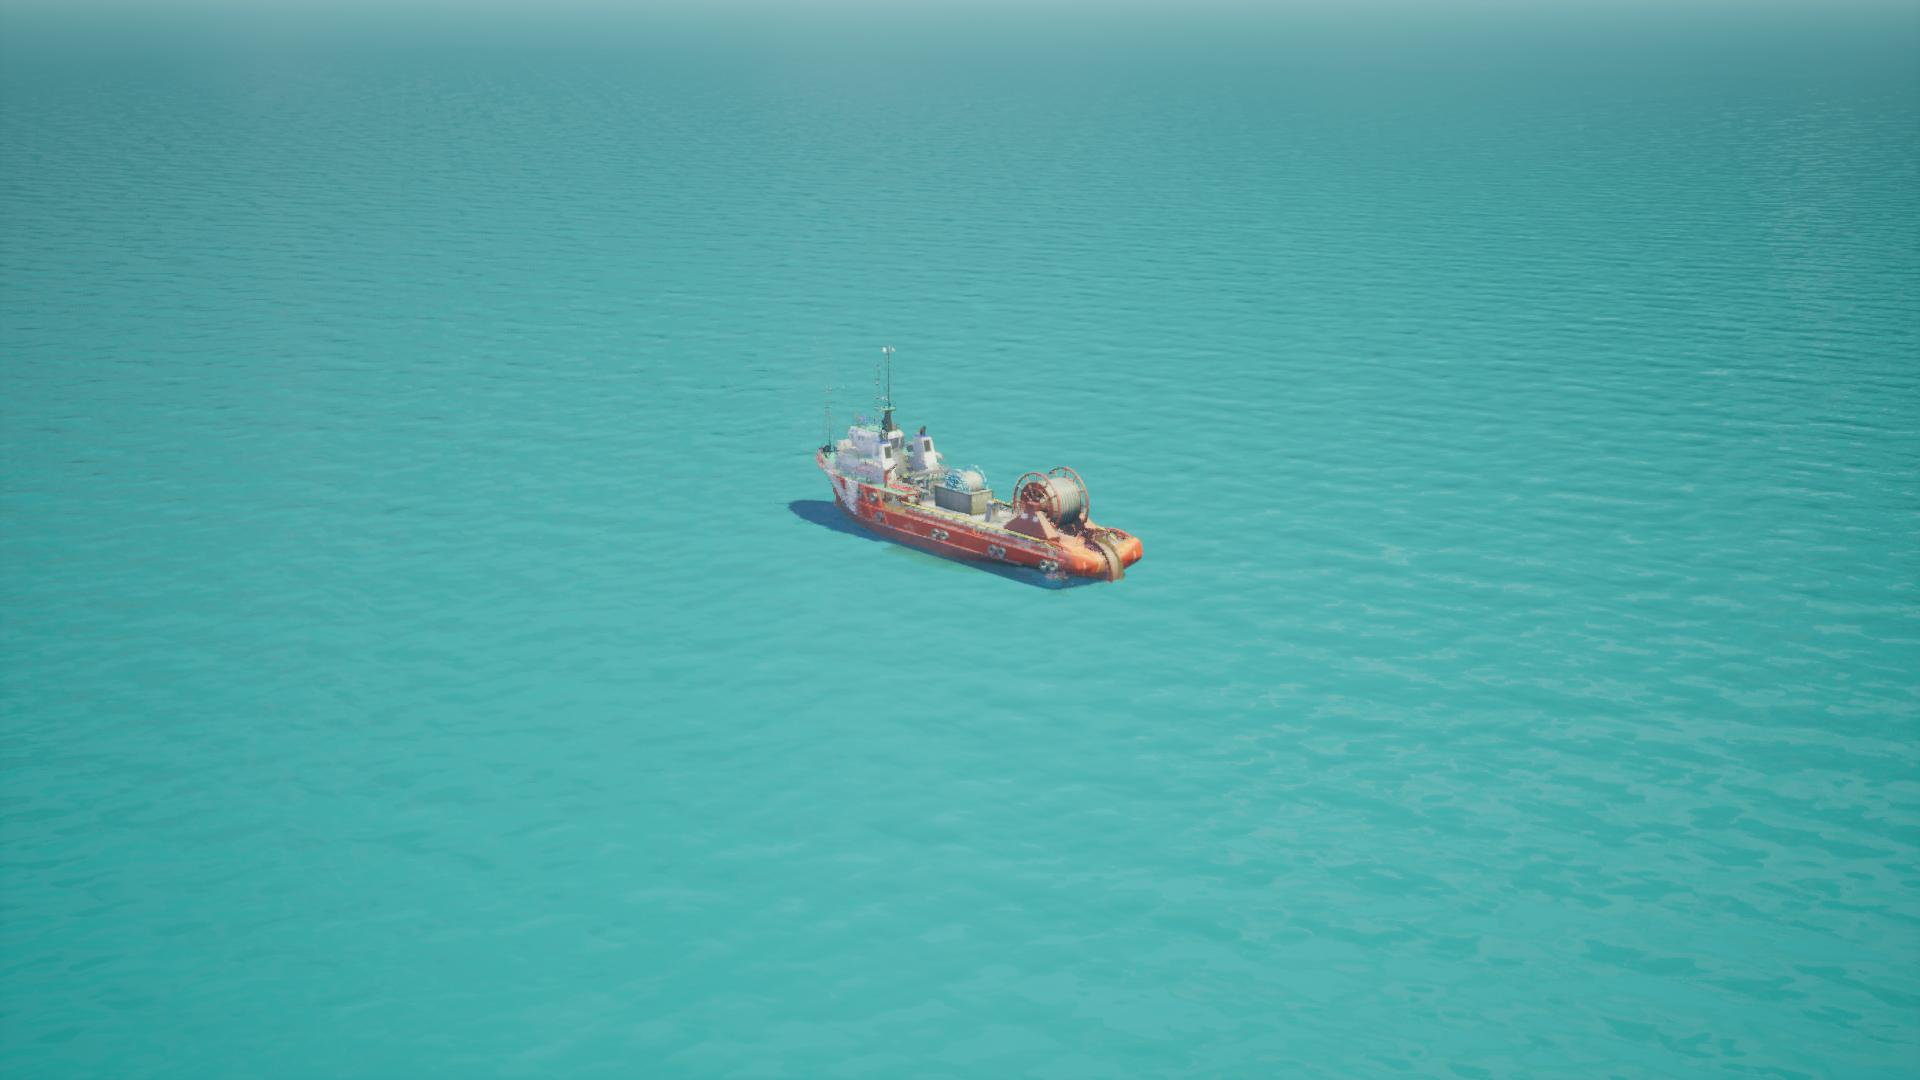Tug Boat: (796, 345, 1127, 593)
